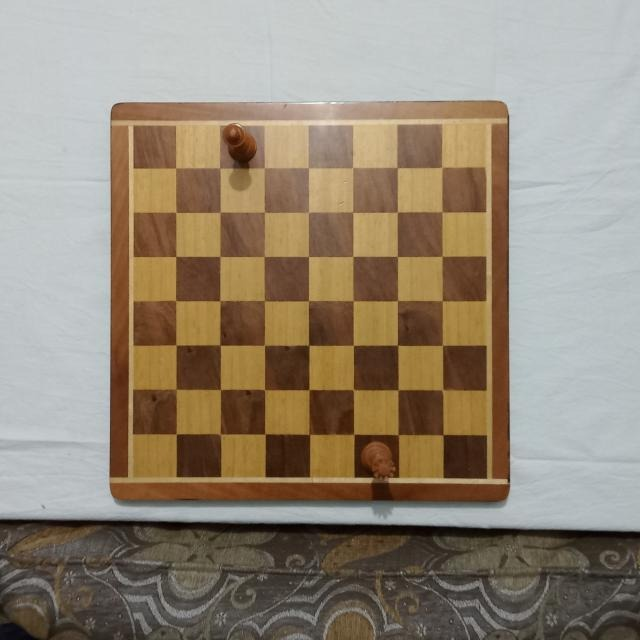white-king: (222, 123, 258, 163)
white-queen: (360, 441, 399, 483)
